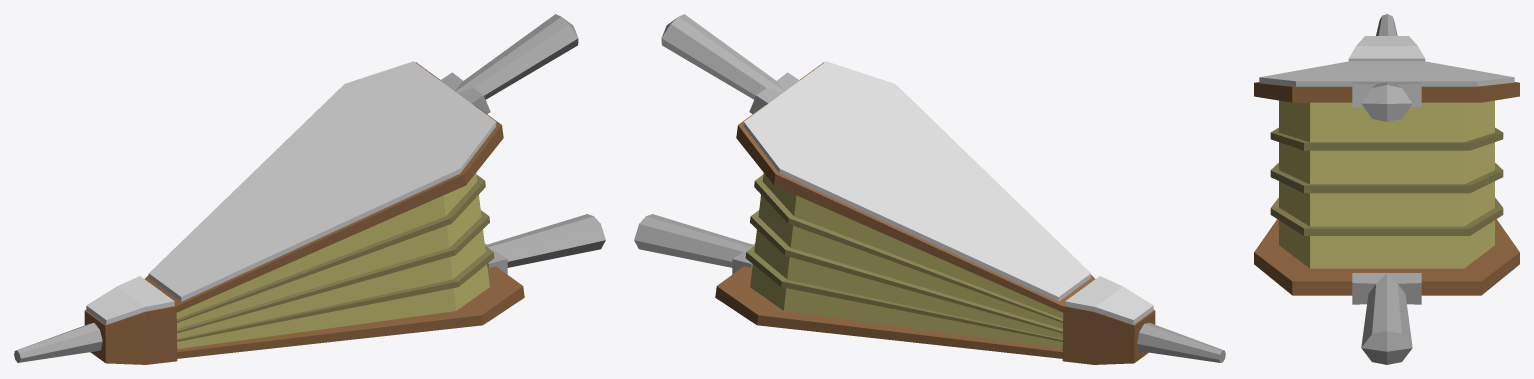
File: Bellows_snow_mat.fbx
3 renders of one model, left to right at view 1: azimuth 30°, elevation 25°; view 2: azimuth 150°, elevation 25°; view 3: azimuth 270°, elevation 25°, orthographic. The views are drawn at different scales.
Visible parts, largest first — view 1: Bellows_snow_mat; view 2: Bellows_snow_mat; view 3: Bellows_snow_mat.
Boxes of the visible parts, x1,y1,x2,y2 form: Bellows_snow_mat: [14, 14, 605, 364]; Bellows_snow_mat: [634, 14, 1225, 364]; Bellows_snow_mat: [1254, 14, 1519, 364].
Size of the model in its own units: 1.49 by 0.5809 by 0.533.
